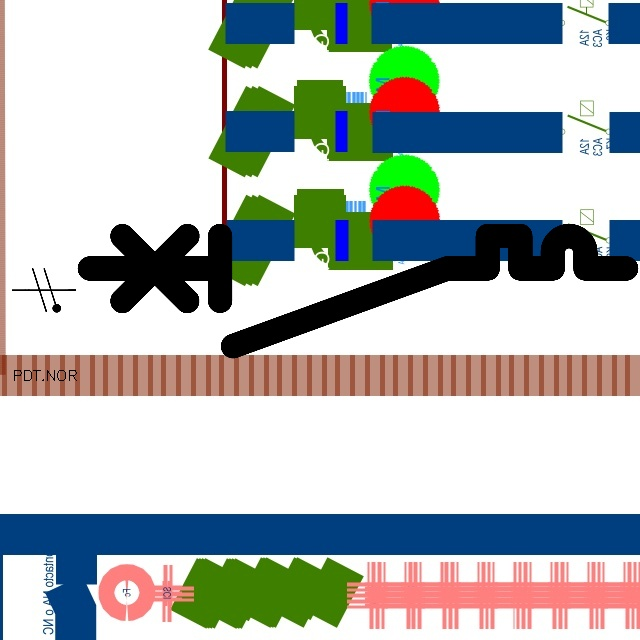interruptor_termomagnetico: (75, 222, 639, 360)
